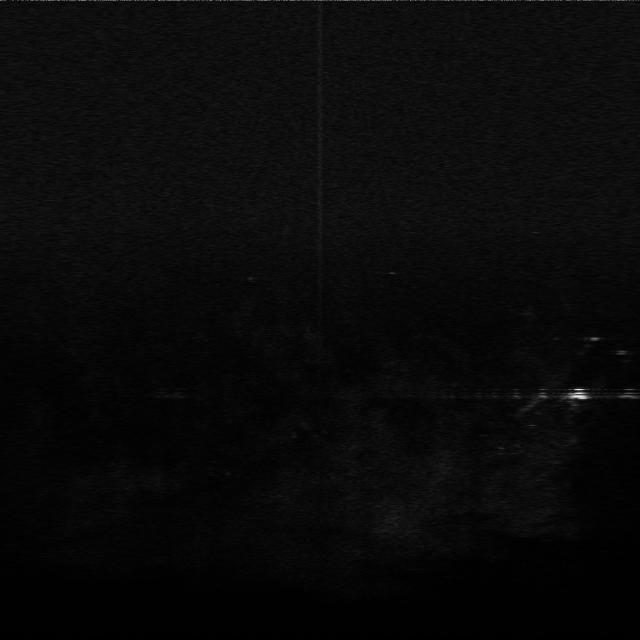rov: (564, 385, 590, 402)
